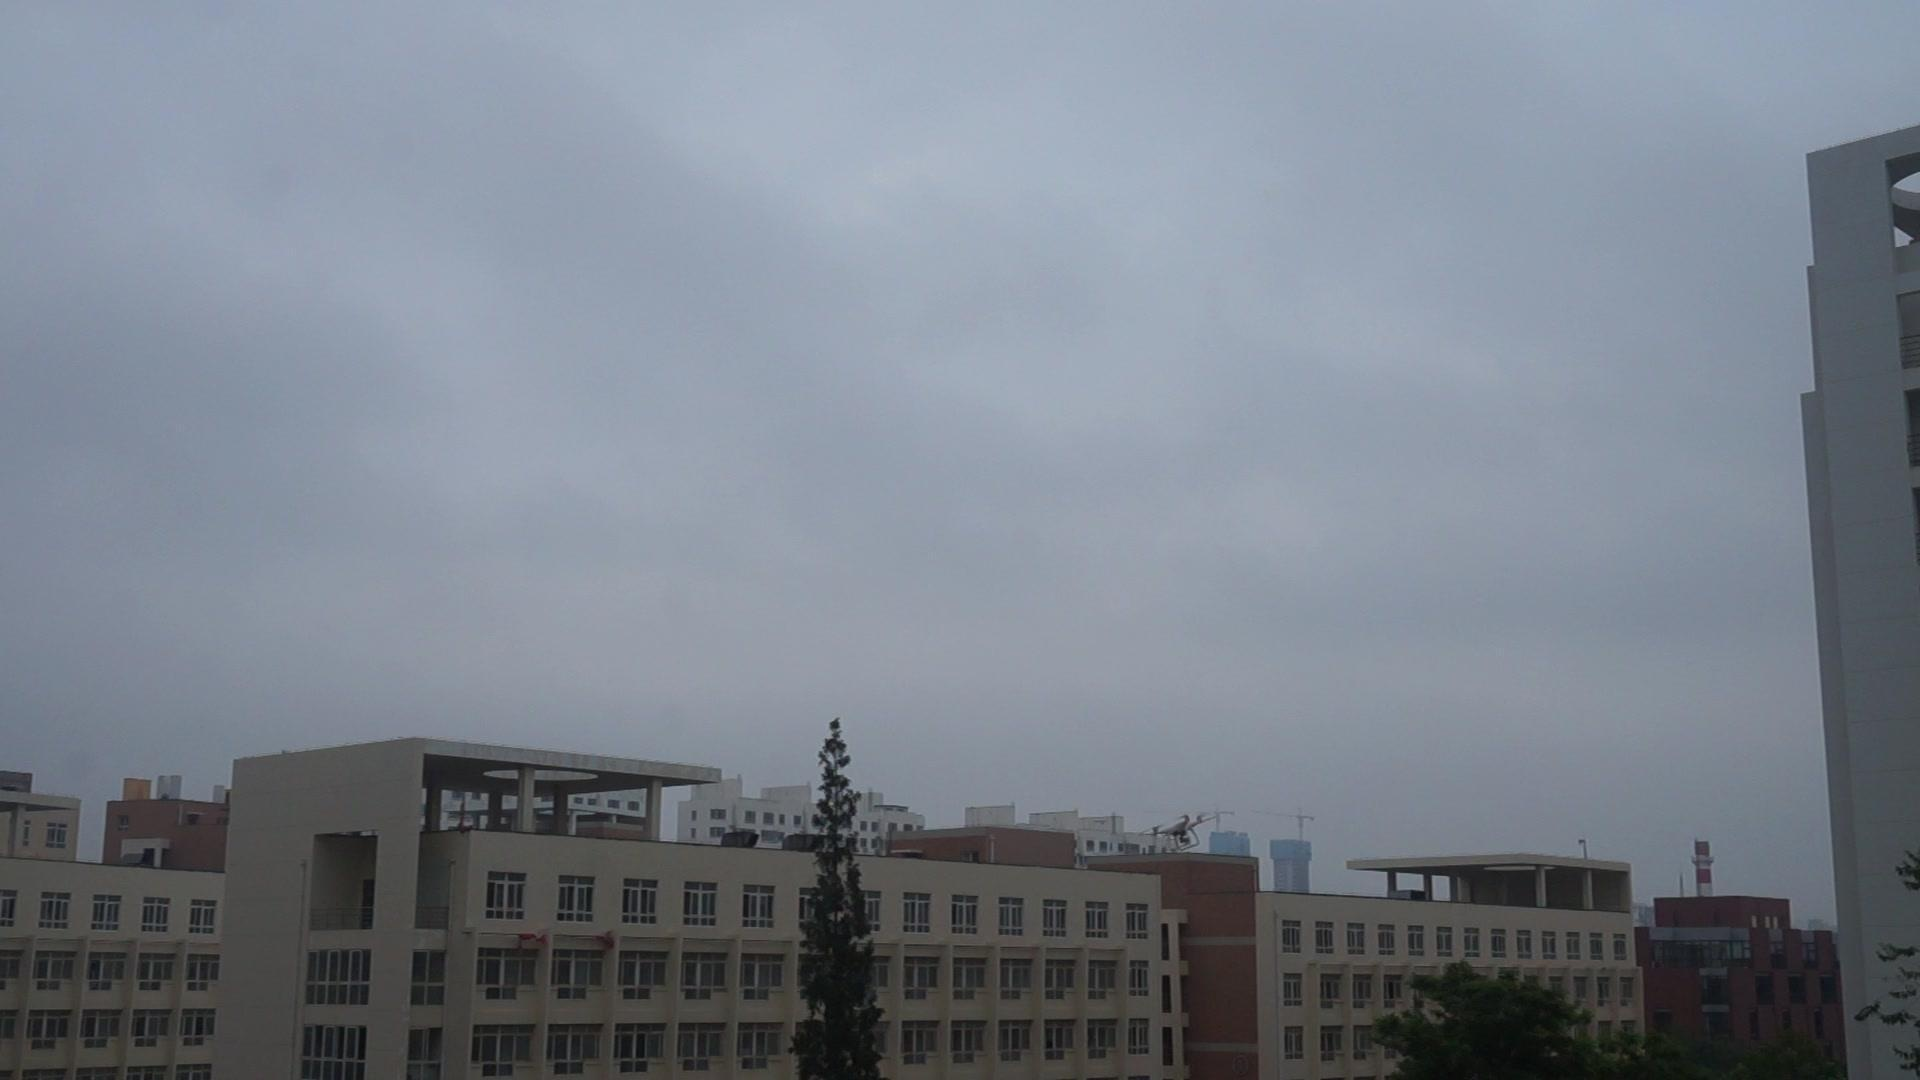UAV: (1139, 814, 1215, 851)
